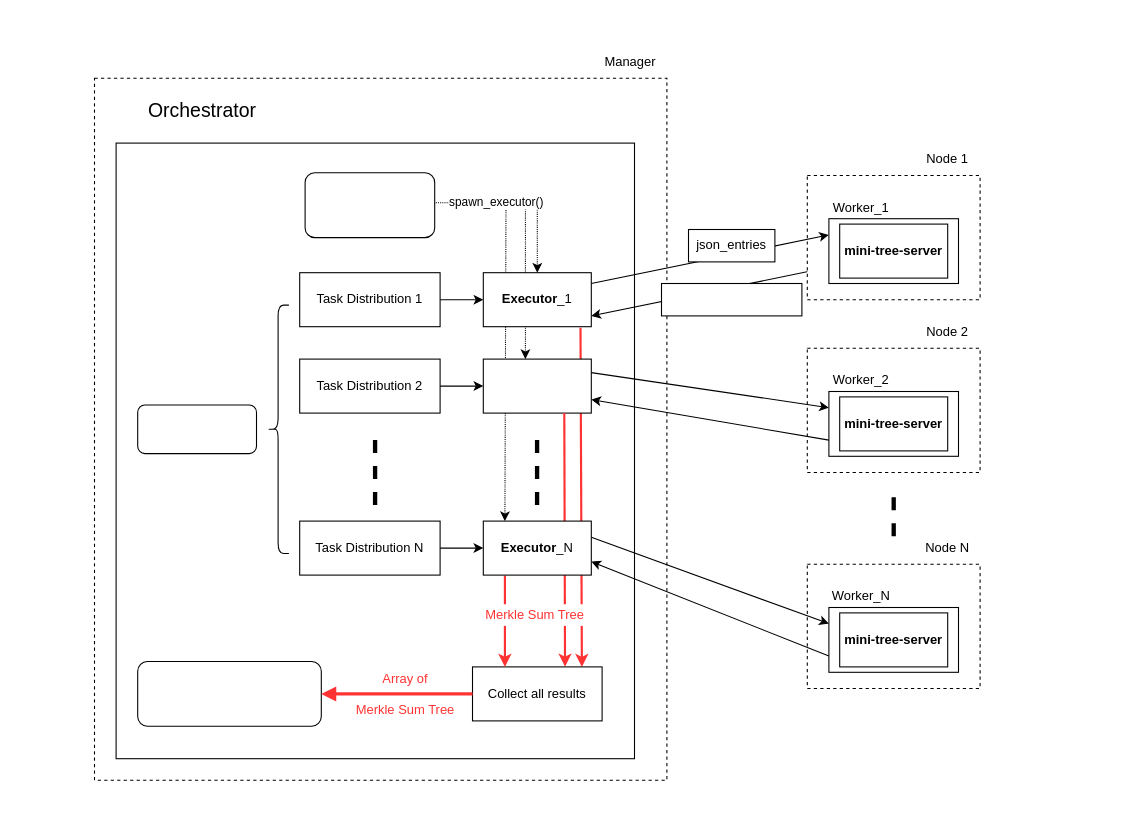
Some shapes in this 1139 by 821 pixel diagram are drawn without their labels. The shapes that lost their labels are listed below. From the top down, each one's centre as x and y in pixels, then its label:
point (369, 205): ExecutorSpawner
point (731, 299): json_merkle_sum_tree
point (536, 385): Executor _2
point (196, 429): Entry CSV files
point (229, 693): AggregationMerkleSumTree
